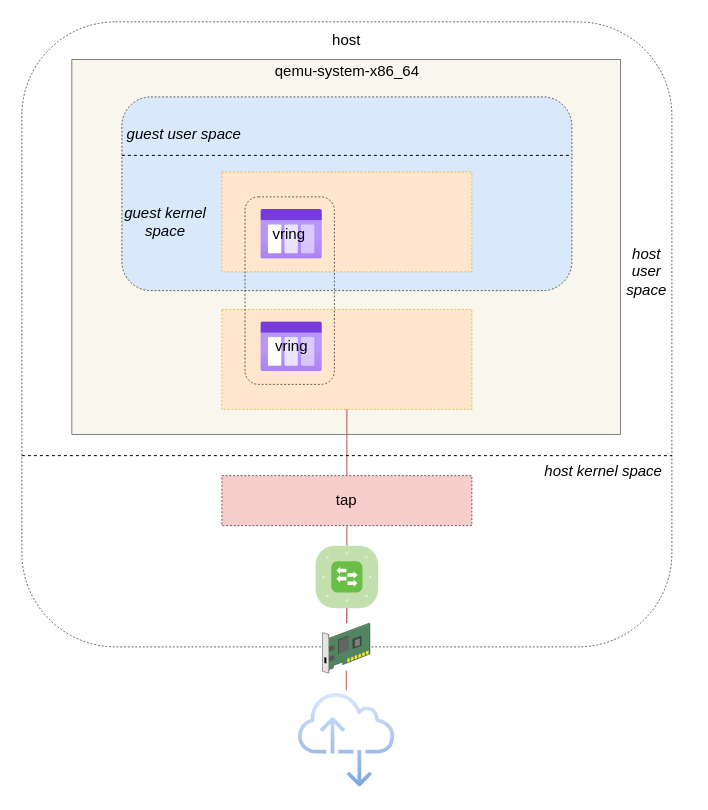
Image size: 708x810. Some labels were removed from this diagram. Each missing label, with the centre of its shape:
"virtio-net device" belongs at point (346, 358).
"virtio-net driver" belongs at point (346, 221).
